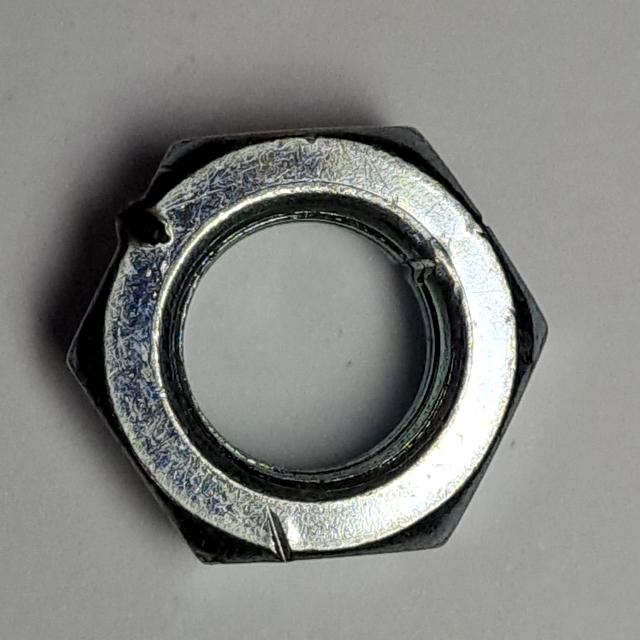Scratches: (51, 113, 564, 579)
